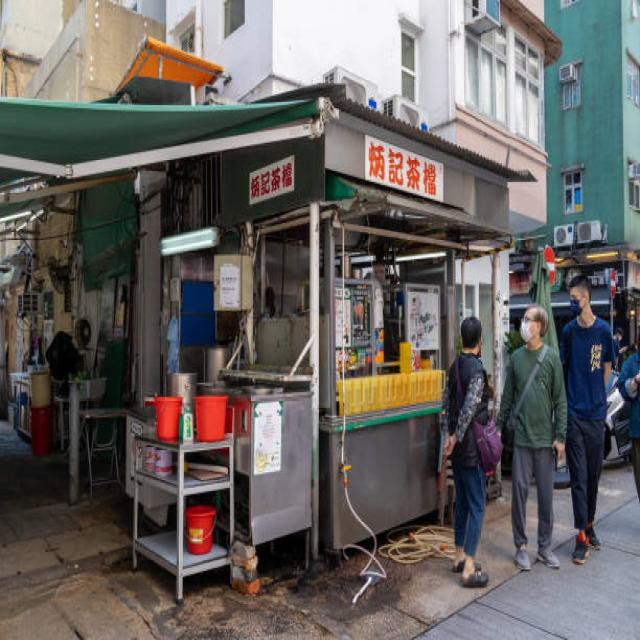Emperan: (0, 80, 550, 616)
